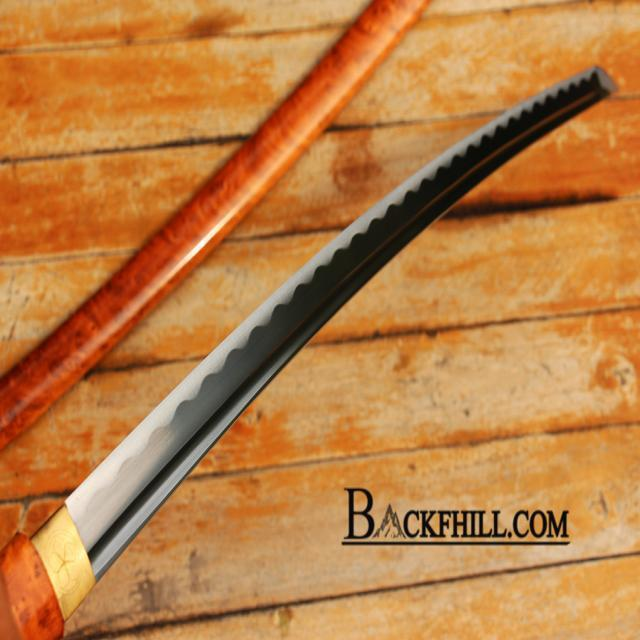long sword: (6, 59, 620, 632)
